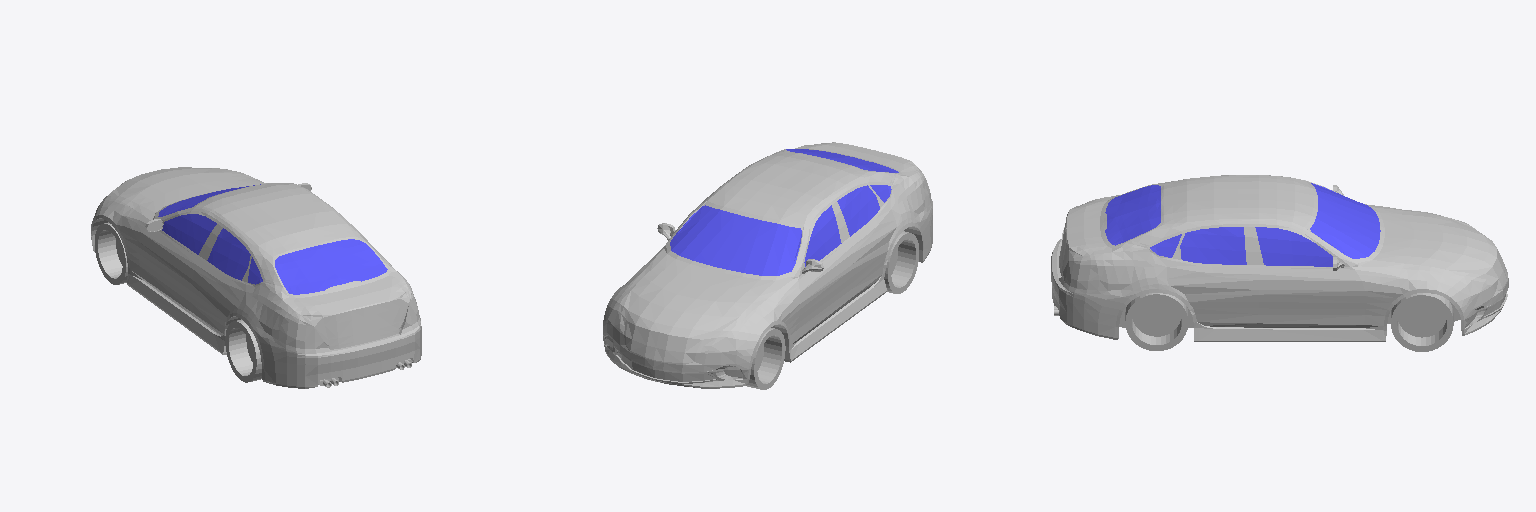
The model's file is blackcar.obj.
3 views of the same model, side by side, from view 1: azimuth 30°, elevation 25°; view 2: azimuth 150°, elevation 25°; view 3: azimuth 270°, elevation 25° (orthographic).
Visible parts, largest first — view 1: IinfinityM45_blue; view 2: IinfinityM45_blue; view 3: IinfinityM45_blue.
Boxes of the visible parts, x1=… form: IinfinityM45_blue: x1=91, y1=167, x2=421, y2=388; IinfinityM45_blue: x1=603, y1=142, x2=932, y2=389; IinfinityM45_blue: x1=1051, y1=175, x2=1508, y2=351.
Size of the model in its own units: 11.05 by 7.92 by 26.55.